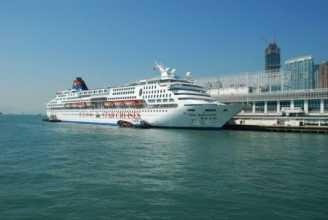youlun: (43, 62, 239, 125)
